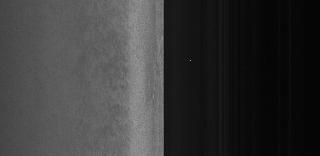silk spot: (92, 35, 138, 145)
